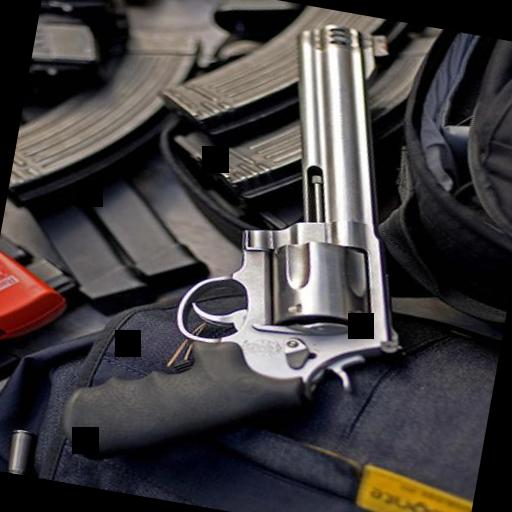Handgun: (50, 0, 454, 506)
